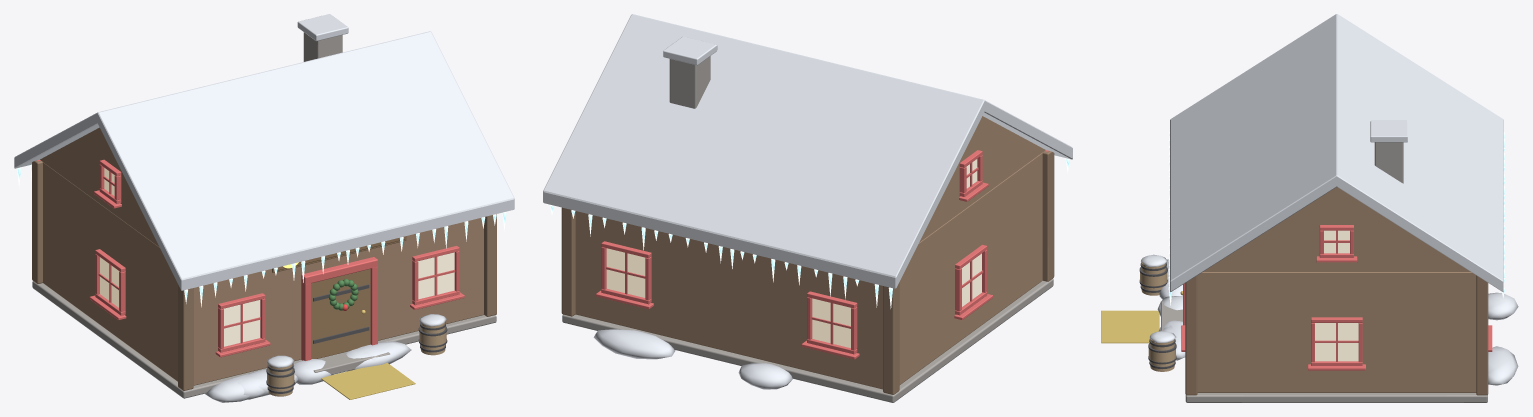
Rendered from cocoa_cabin.fbx.
The picture shows the model from 3 angles, left to right: view 1: azimuth 30°, elevation 25°; view 2: azimuth 150°, elevation 25°; view 3: azimuth 270°, elevation 25°; orthographic projection. The views are drawn at different scales.
Parts seen in each view (by area): view 1: cocoa_cabin; view 2: cocoa_cabin; view 3: cocoa_cabin.
Boxes of the visible parts, box(x1,y1,x2,y2) form: cocoa_cabin: box(14, 14, 514, 402); cocoa_cabin: box(543, 14, 1072, 402); cocoa_cabin: box(1101, 14, 1518, 402).
Bounding box in the file's own units: 13.2 × 9.45 × 14.35.
